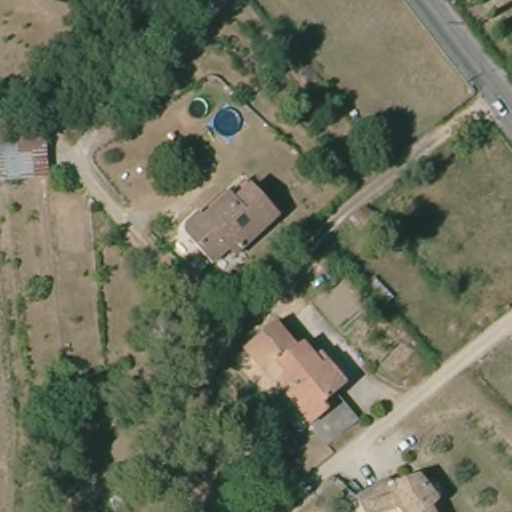pool: (205, 102, 250, 142)
